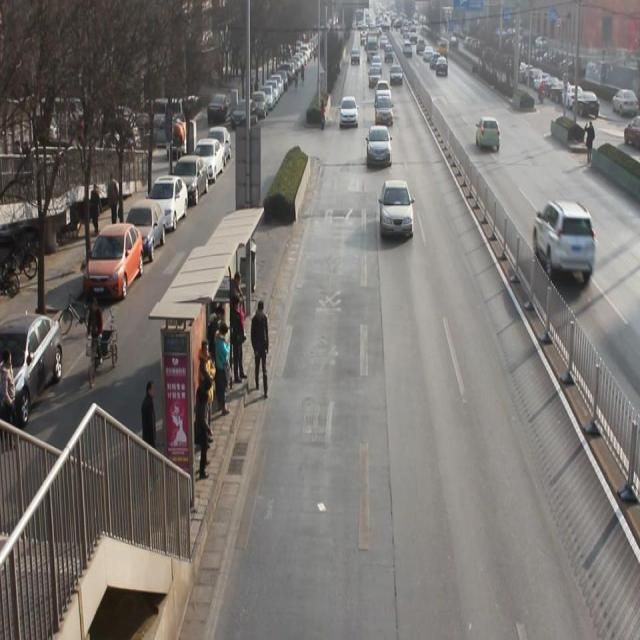car: (530, 195, 598, 289), (377, 178, 415, 238), (474, 114, 502, 153), (366, 124, 392, 165), (340, 95, 360, 131), (373, 97, 395, 123)
